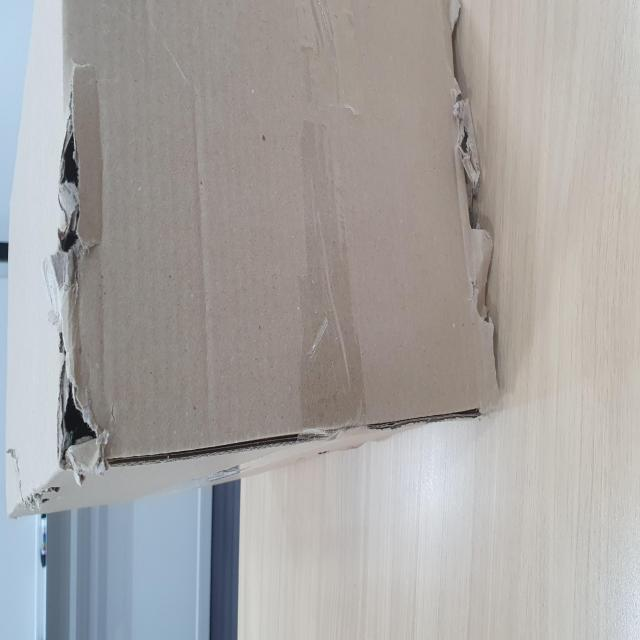damaged: (213, 90, 310, 169), (96, 89, 158, 163)
